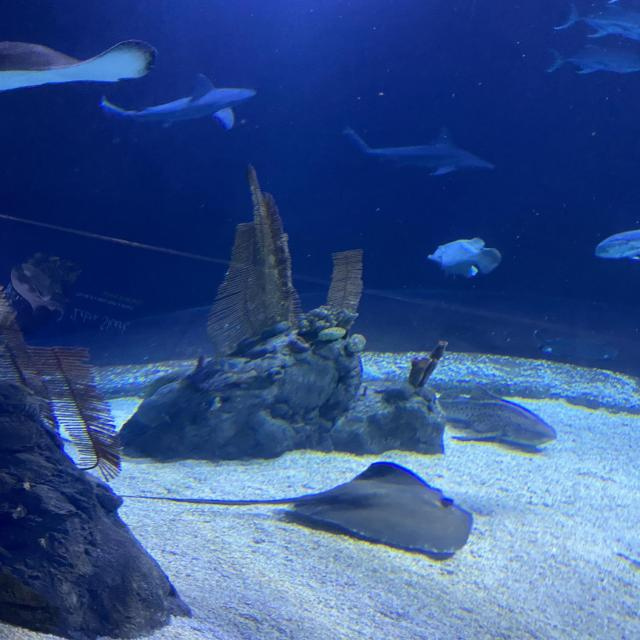fish: (435, 384, 558, 446), (554, 1, 640, 42), (542, 42, 640, 77), (427, 237, 502, 279), (596, 229, 640, 263)
shark: (98, 71, 258, 133), (336, 123, 496, 180)
stingray: (285, 462, 474, 554), (0, 40, 158, 93), (539, 336, 618, 362)
